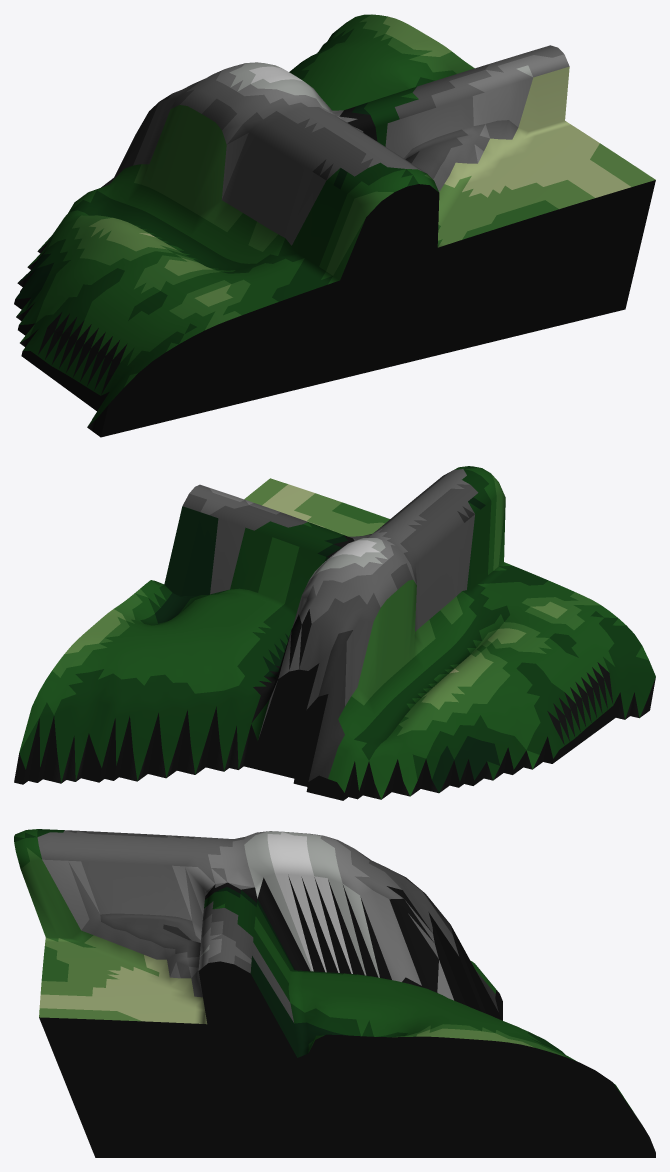
File: green_shell_153.glb
3 views of the same model, one above another, from view 1: azimuth 30°, elevation 25°; view 2: azimuth 150°, elevation 25°; view 3: azimuth 270°, elevation 25° (orthographic). The views are drawn at different scales.
Parts seen in each view (by area): view 1: green_shell_153; view 2: green_shell_153; view 3: green_shell_153.
Boxes of the visible parts, left/top/right/bottom form: green_shell_153: left=14, top=14, right=655, bottom=437; green_shell_153: left=14, top=466, right=655, bottom=800; green_shell_153: left=14, top=829, right=655, bottom=1157.
Bounding box in the file's own units: 22 × 9 × 25.2.
